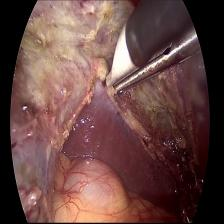Grasper: (112, 32, 196, 97)
Hook: (96, 18, 137, 84)
